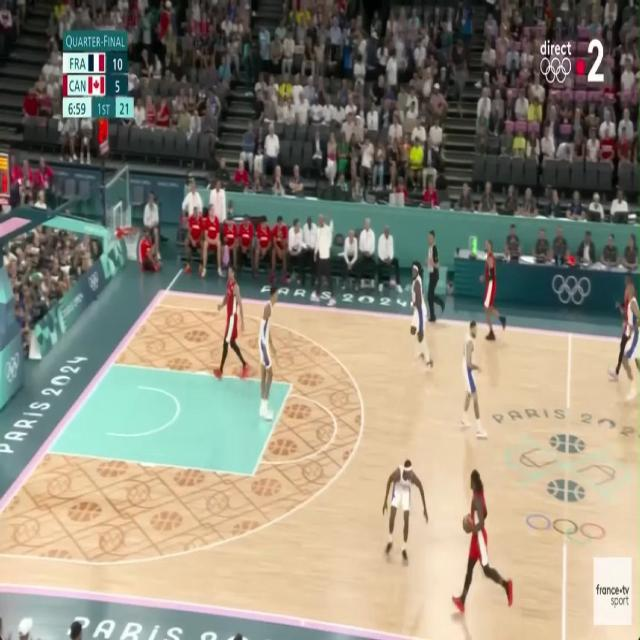ball_handler: (451, 465, 514, 619)
